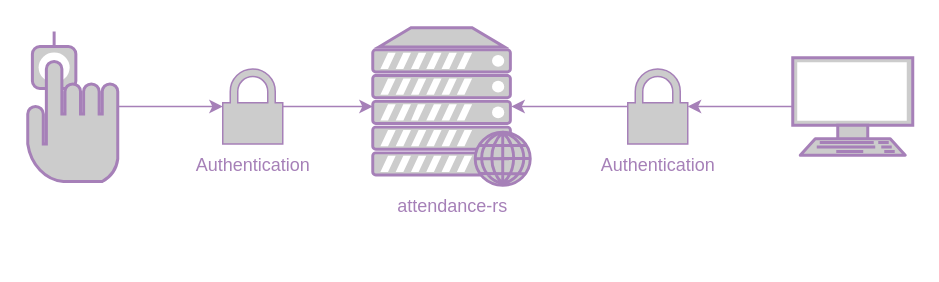
Image size: 939x282. Some labels were removed from this diagram. Here are the shapes that lost their labels. From the top down, the centre of each, then its label:
At [72,105]: "Attendance Collection System".
At [852,106]: "Attendance Viewer".
